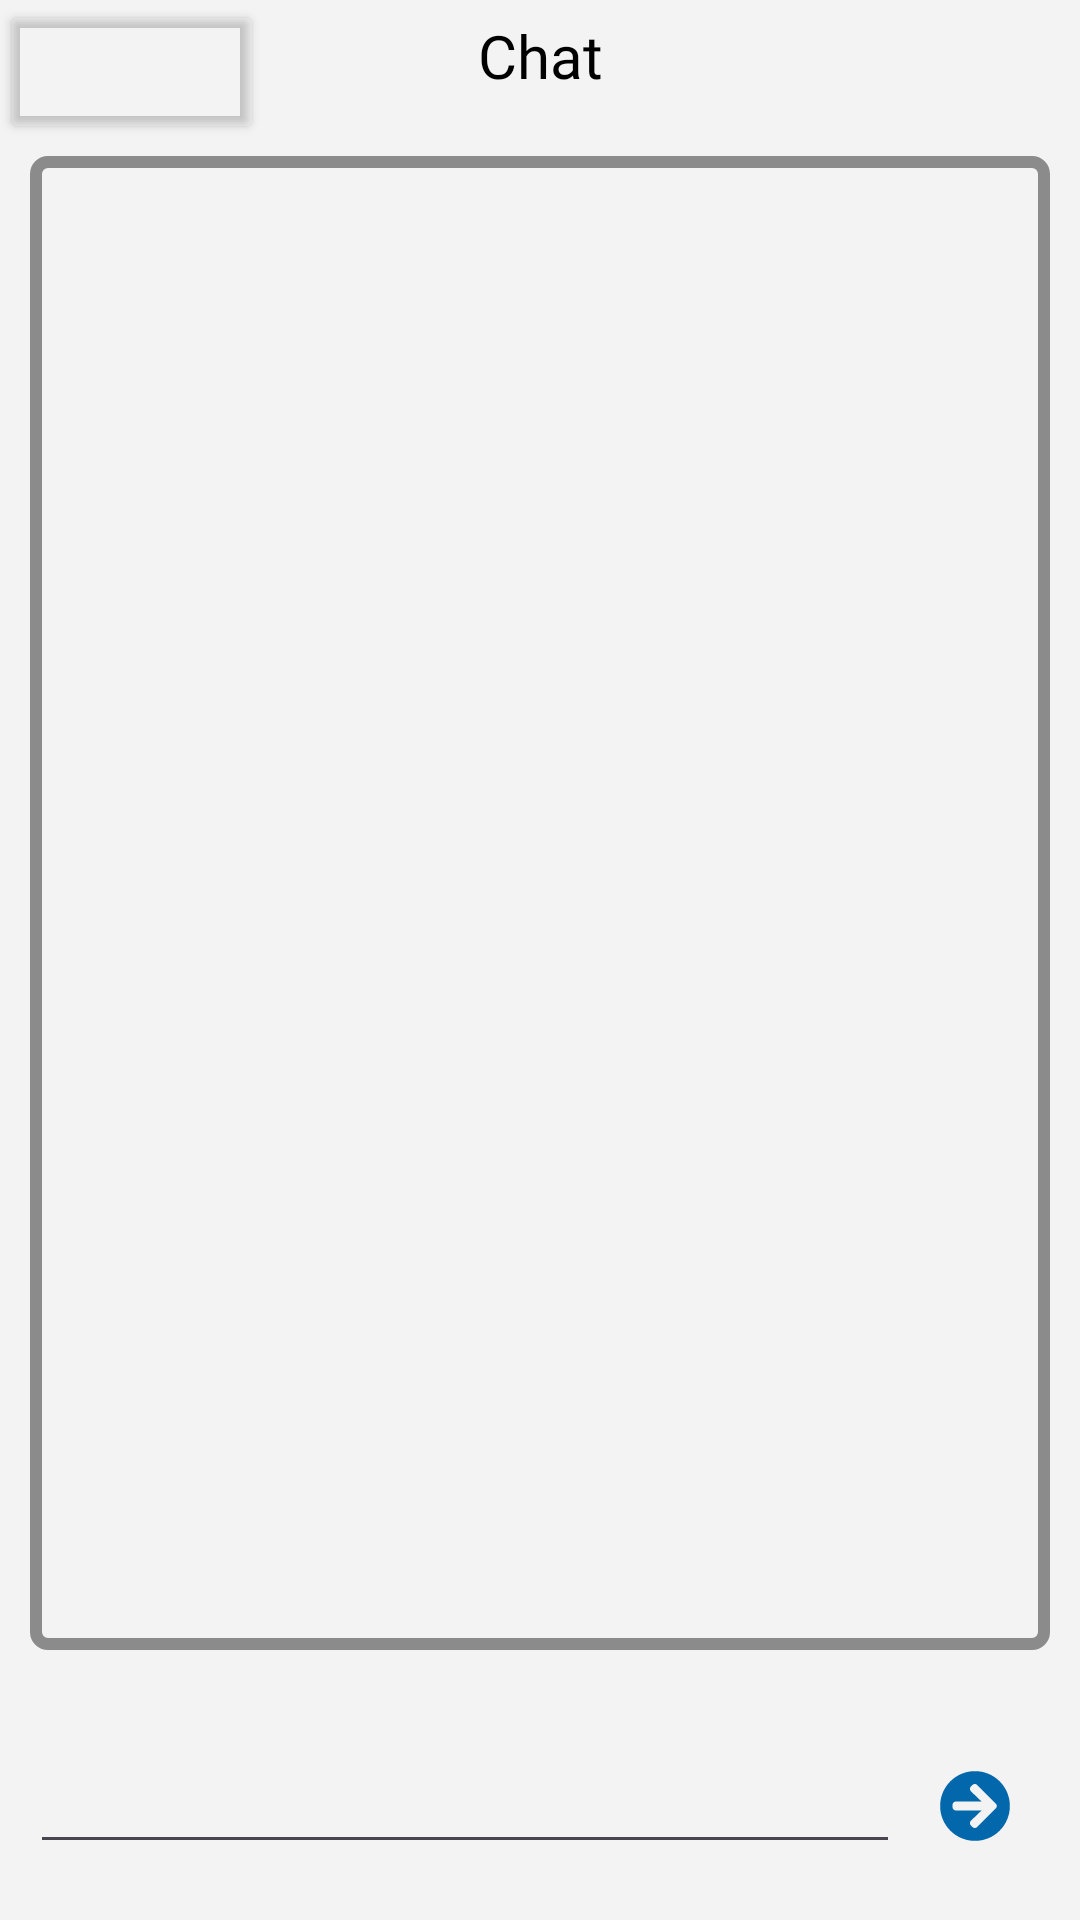

Point at icon controls on the screen. Image size 1080×1920, points as (x,y).
enviar: (975,1806)
